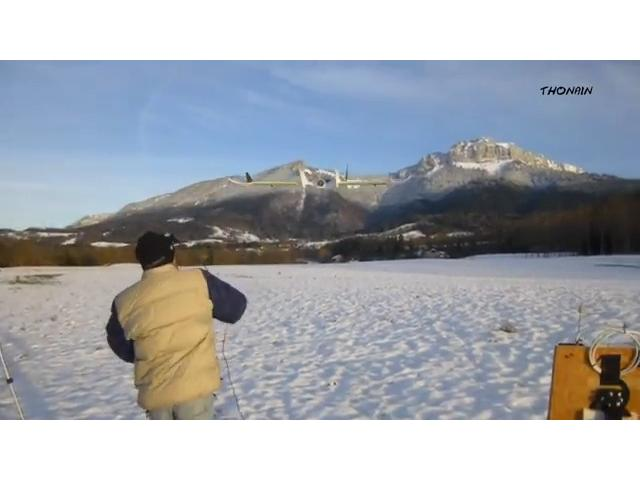Anti-Drone: (199, 154, 437, 206)
